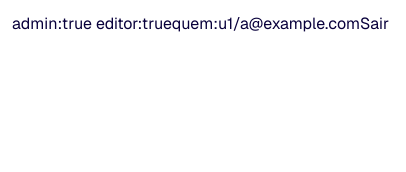
Test: AuthProvider › drops every role on sign-out
This screenshot has width=406, height=172.
Click the button "Sair". click: (375,24)
box: [360,12,389,36]
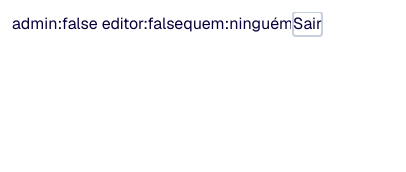
Check: the text "quem:ninguém" is shown, box [183,13,293,34]
